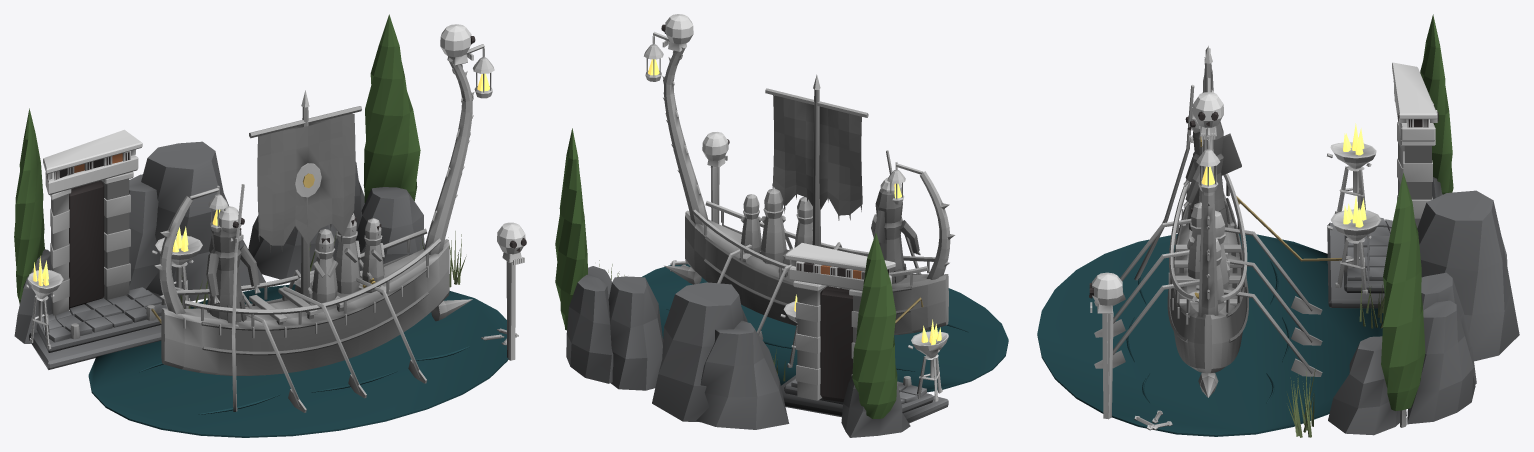
The model's file is charons-barge-l2.glb.
3 renders of one model, left to right at view 1: azimuth 30°, elevation 25°; view 2: azimuth 150°, elevation 25°; view 3: azimuth 270°, elevation 25°, orthographic. The views are drawn at different scales.
Visible parts, largest first — view 1: charons-barge-l2; view 2: charons-barge-l2; view 3: charons-barge-l2.
Boxes of the visible parts, <box> form: charons-barge-l2: <box>14,14,526,437</box>; charons-barge-l2: <box>555,14,1008,437</box>; charons-barge-l2: <box>1037,14,1519,437</box>.
Size of the model in its own units: 1.43 by 1.03 by 1.38.
